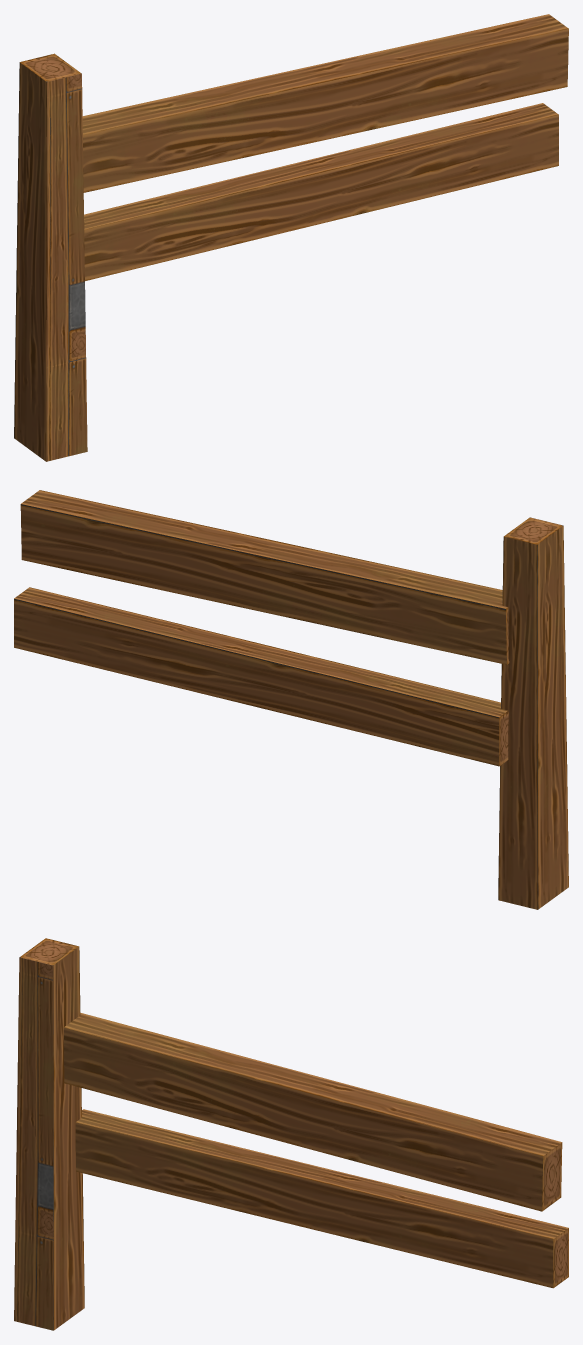
3 views of the same model, one above another, from view 1: azimuth 30°, elevation 25°; view 2: azimuth 150°, elevation 25°; view 3: azimuth 330°, elevation 25° (orthographic). The views are drawn at different scales.
Visible parts, largest first — view 1: Cube.2036; view 2: Cube.2036; view 3: Cube.2036.
Part boxes in pixels (x1,y1,x2,y2): Cube.2036: (14,14,568,461); Cube.2036: (14,490,568,909); Cube.2036: (14,938,568,1330).
Bounding box in the file's own units: 212 × 142 × 27.65.
Materials: 1 (1 with a texture image).
